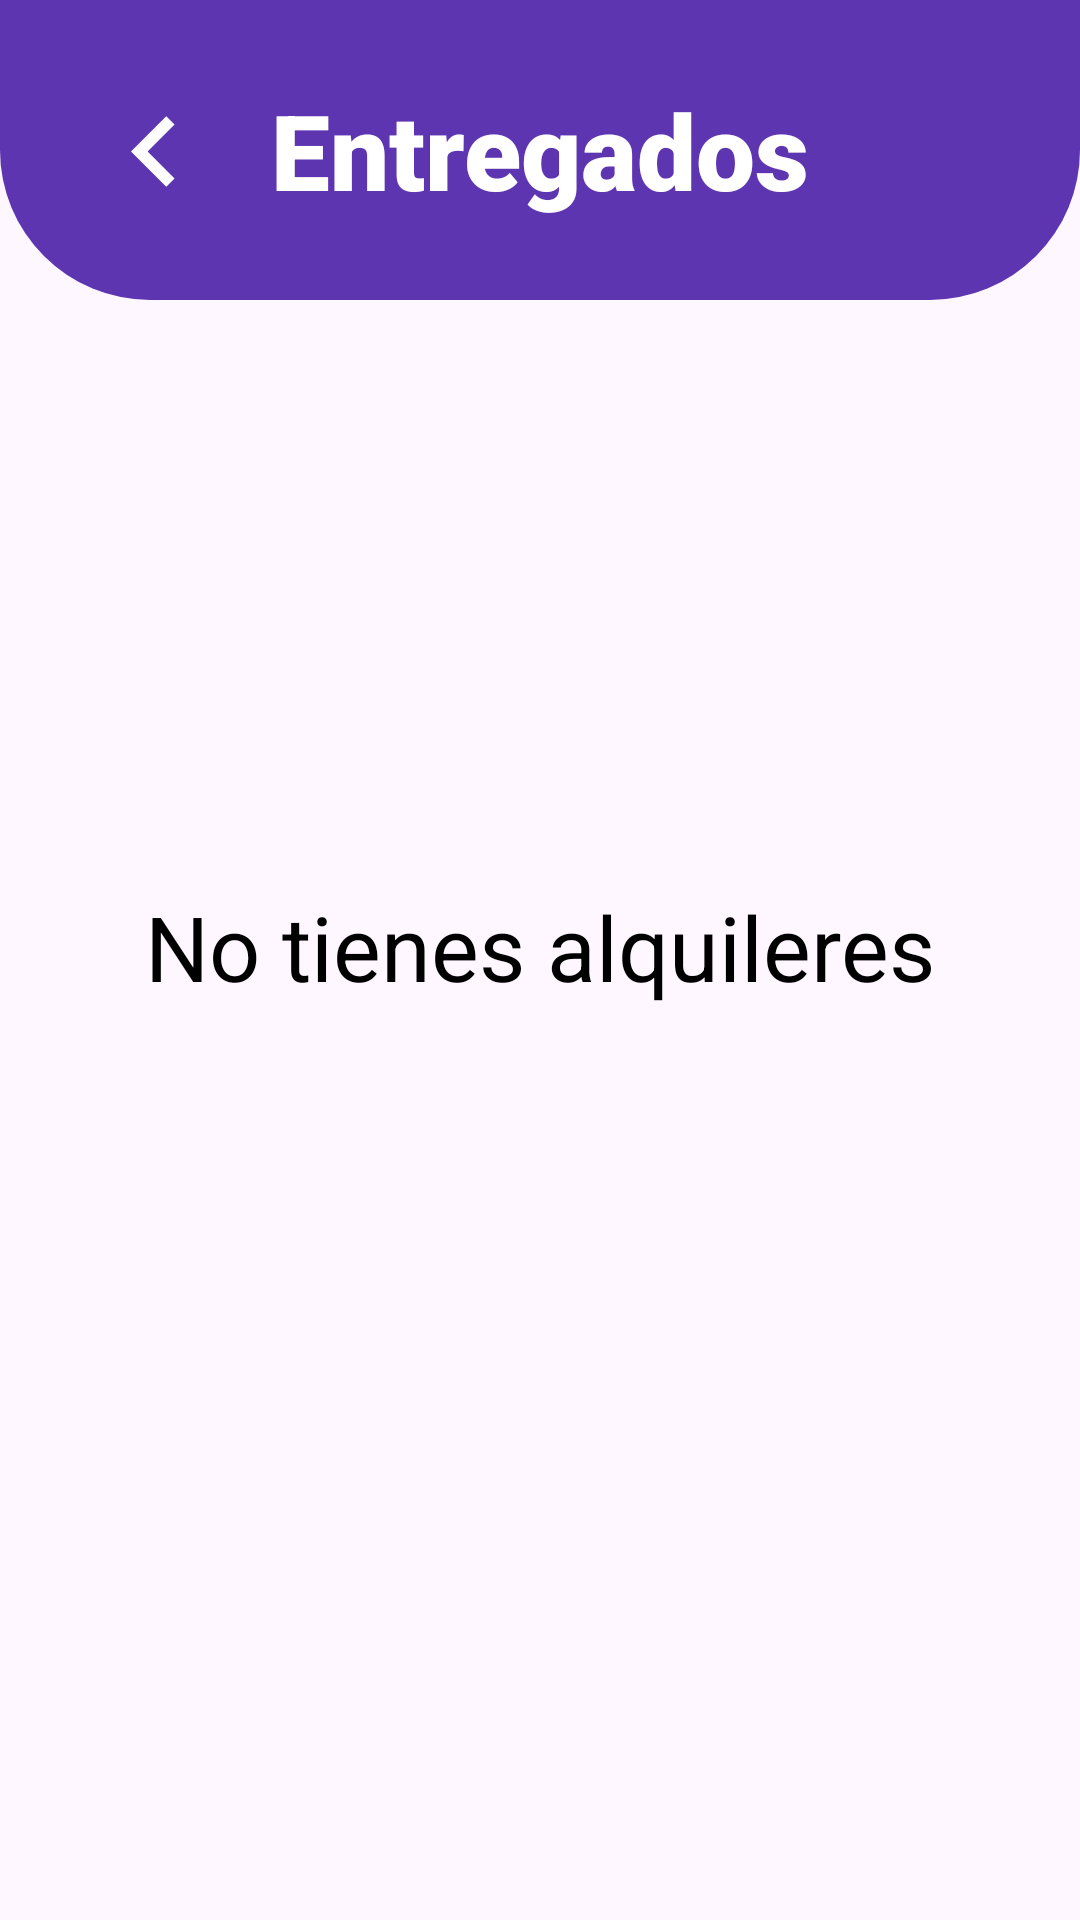

Icons on this 1080w x 1920h Android screen, each with its box as [x1=x1, y1=y1, x2=x2, y2=y2]:
back: [x1=131, y1=116, x2=175, y2=187]
